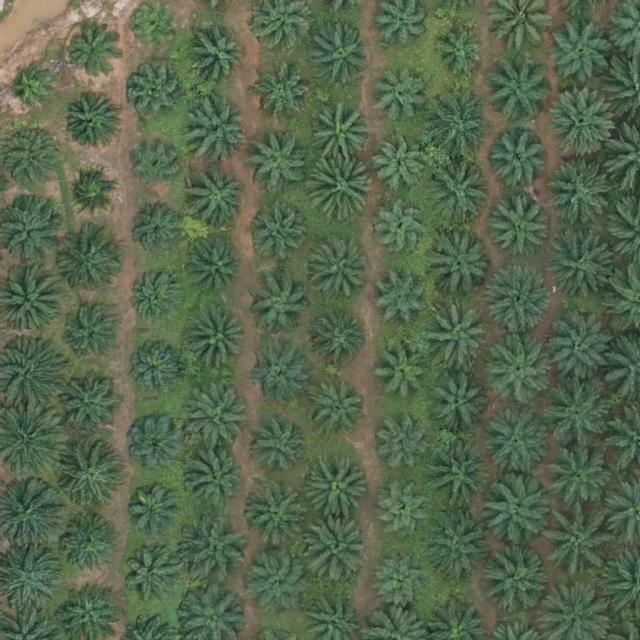Healthy: (477, 479, 548, 550), (547, 228, 618, 299), (484, 266, 555, 337), (425, 512, 495, 583), (305, 514, 375, 585), (241, 481, 311, 552), (180, 512, 250, 583), (543, 312, 613, 383), (547, 159, 618, 229), (547, 86, 617, 157), (484, 409, 554, 480), (424, 439, 494, 510), (425, 305, 496, 375), (424, 154, 495, 224), (425, 91, 495, 162), (302, 452, 372, 523), (306, 153, 376, 224), (184, 382, 254, 453), (548, 507, 618, 577), (476, 545, 546, 615), (240, 548, 310, 618), (542, 437, 612, 507), (542, 380, 612, 450), (483, 57, 553, 127), (56, 228, 126, 298), (57, 447, 127, 517), (430, 236, 493, 299), (305, 237, 368, 300), (245, 136, 308, 199), (187, 164, 250, 227), (189, 310, 252, 373), (57, 377, 120, 440), (486, 131, 548, 194), (491, 196, 553, 259), (489, 344, 551, 407), (424, 371, 486, 434), (305, 376, 367, 439), (313, 106, 375, 169), (247, 204, 309, 267), (249, 350, 311, 413), (250, 419, 312, 482), (187, 27, 249, 90), (125, 414, 187, 477), (125, 339, 188, 401), (548, 21, 610, 84), (249, 273, 311, 335), (189, 100, 251, 162), (185, 449, 247, 511), (310, 24, 372, 86), (374, 554, 429, 609), (124, 547, 179, 602), (59, 518, 114, 573), (370, 71, 425, 126), (373, 141, 428, 196), (373, 201, 428, 256), (374, 276, 429, 331), (376, 344, 431, 399), (379, 419, 434, 474), (375, 485, 430, 540), (309, 310, 364, 365), (259, 71, 314, 126), (189, 238, 244, 293), (126, 483, 181, 538), (129, 137, 184, 192), (130, 207, 185, 262), (130, 273, 185, 328), (64, 93, 119, 148), (64, 166, 119, 221), (62, 304, 117, 359), (433, 21, 488, 76), (128, 64, 182, 119), (67, 27, 121, 82)
Small: (12, 65, 59, 113)
